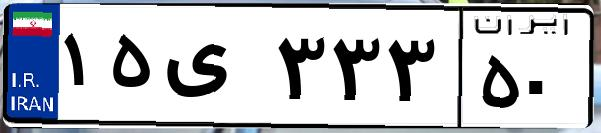0: (525, 38, 570, 115)
1: (57, 26, 110, 100)
3: (270, 28, 330, 110), (385, 28, 445, 110), (330, 28, 385, 110)
5: (475, 38, 525, 113), (110, 28, 158, 98)
ی: (158, 20, 270, 120)
